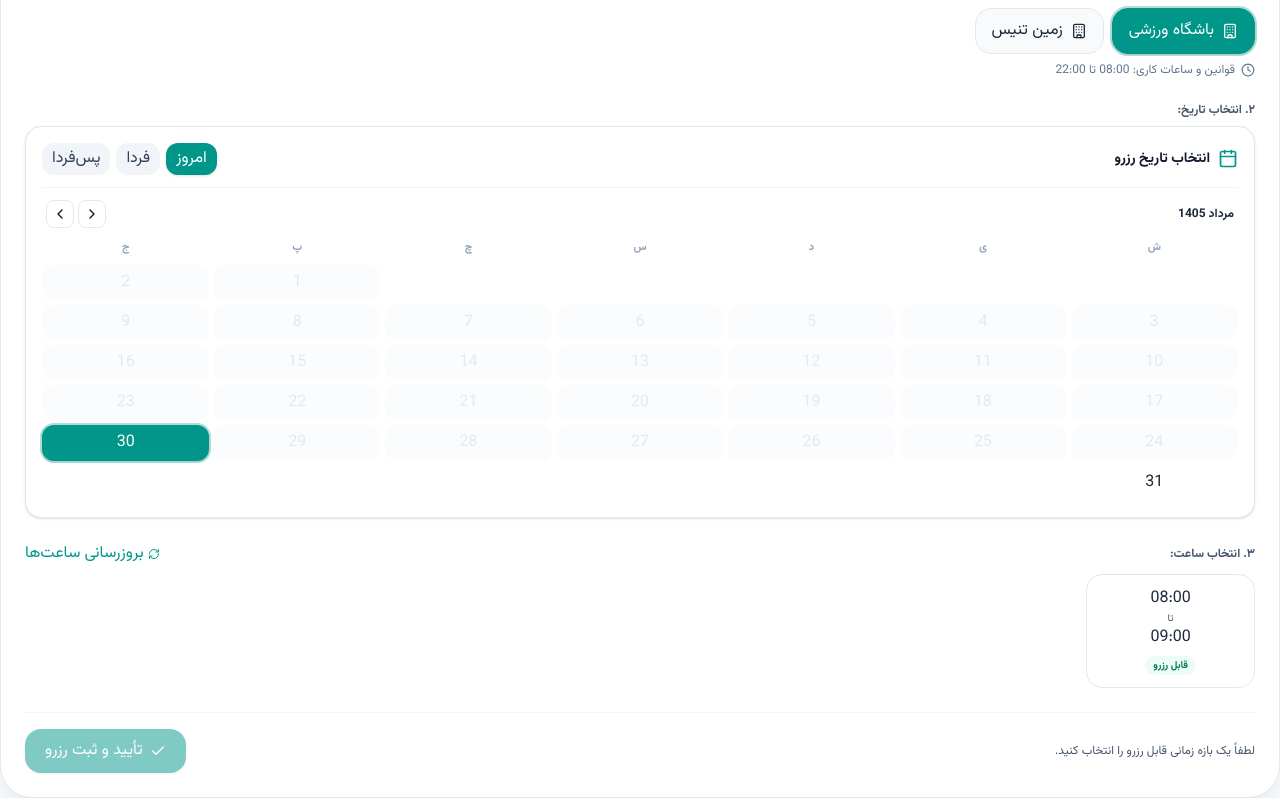
Test: AmenityBookingSection › rejects a selected slot whose end time is already past
(page scrolled)
Click the button "08:00 تا 09:00 قابل رزرو": x=1171, y=630 [1086,574,1255,688]
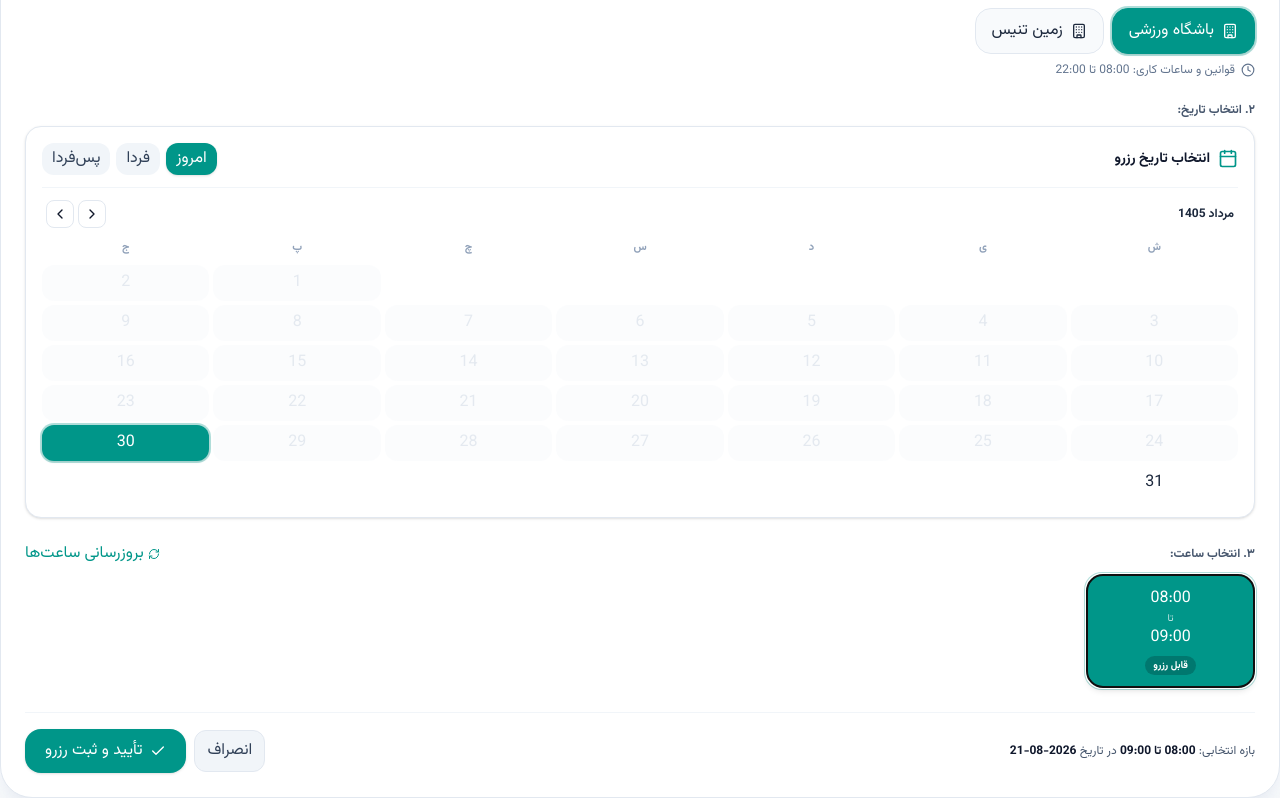
Click the button "تأیید و ثبت رزرو": x=106, y=750 [25,728,186,772]
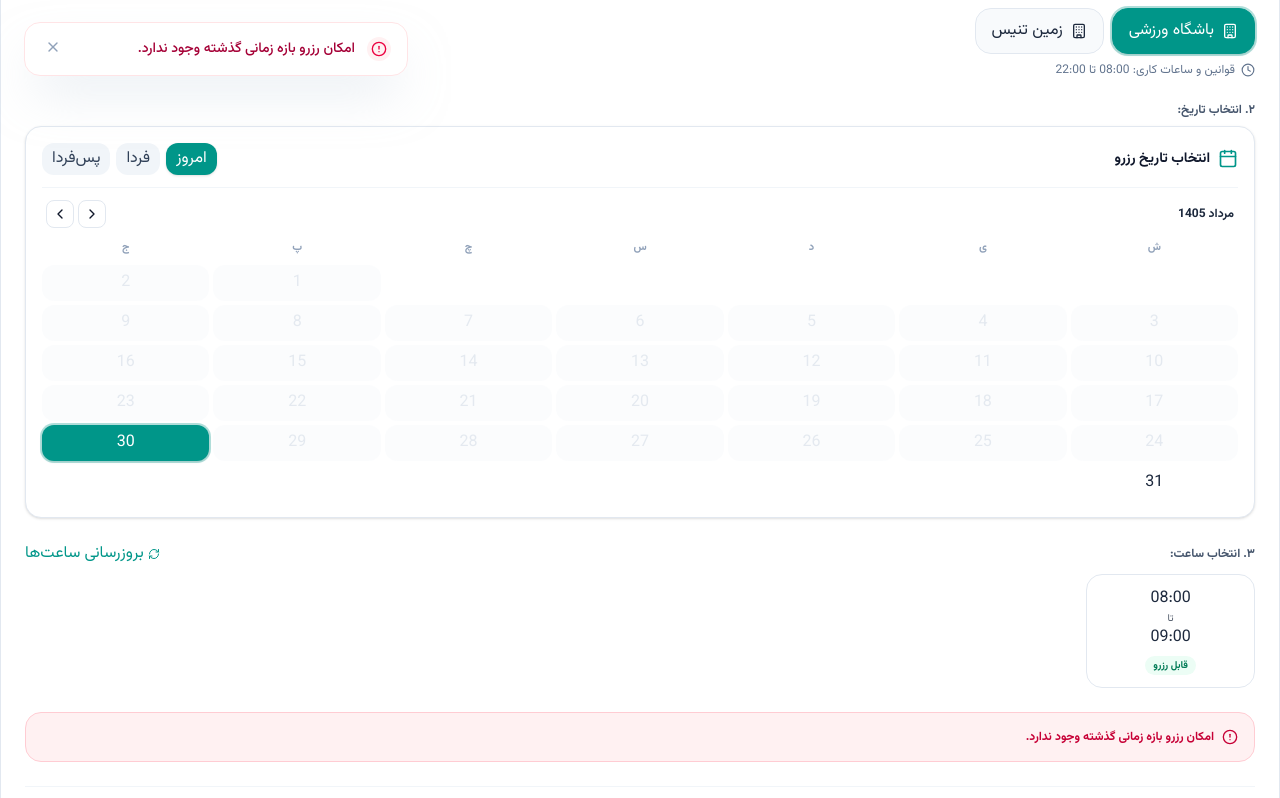
Expected: the message reads "امکان رزرو بازه زمانی گذشته وجود ندارد.", [1026,728,1214,746]
